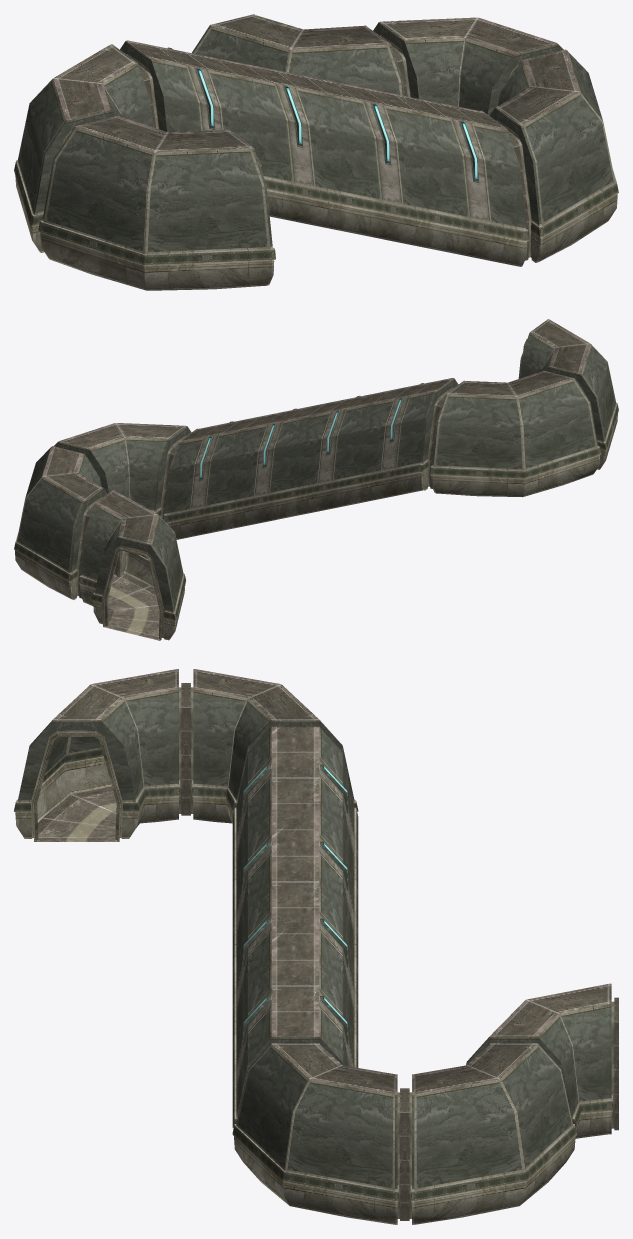
The model's file is thm_yavn_jedi_enclave_light_r25_entrancehall3_mesh_r25.fbx.
3 views of the same model, one above another, from view 1: azimuth 30°, elevation 25°; view 2: azimuth 150°, elevation 25°; view 3: azimuth 270°, elevation 25° (orthographic). The views are drawn at different scales.
Parts seen in each view (by area): view 1: mesh_node; view 2: mesh_node; view 3: mesh_node.
Boxes of the visible parts, x1=… form: mesh_node: x1=14, y1=14, x2=618, y2=290; mesh_node: x1=14, y1=319, x2=618, y2=640; mesh_node: x1=14, y1=669, x2=618, y2=1224.
Bounding box in the file's own units: 19.3 × 7.67 × 15.85.
Materials: 3 (3 with a texture image).
